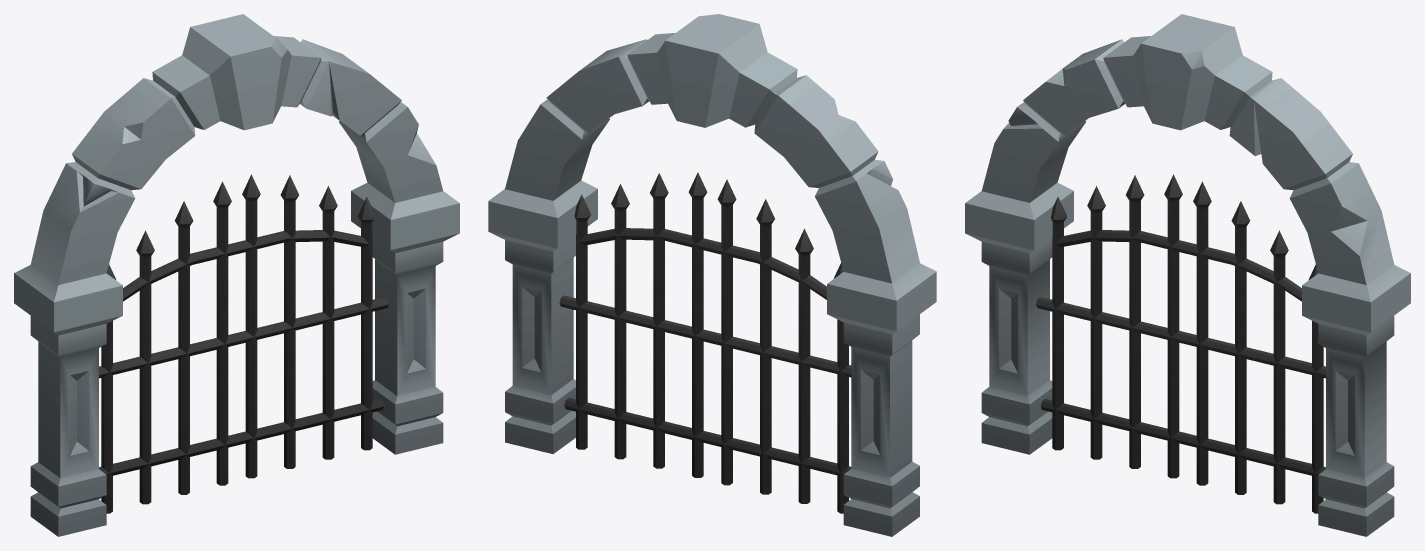
Rendered from hb_arch_gate.glb.
3 views of the same model, side by side, from view 1: azimuth 30°, elevation 25°; view 2: azimuth 150°, elevation 25°; view 3: azimuth 330°, elevation 25° (orthographic).
Visible parts, largest first — view 1: arch_gate, arch_gate_left, arch_gate_right; view 2: arch_gate, arch_gate_left, arch_gate_right; view 3: arch_gate, arch_gate_right, arch_gate_left.
Boxes of the visible parts, x1,y1,x2,y2 form: arch_gate: [14, 14, 459, 536]; arch_gate_left: [236, 174, 388, 478]; arch_gate_right: [99, 181, 239, 513]; arch_gate: [488, 14, 936, 536]; arch_gate_left: [559, 172, 713, 477]; arch_gate_right: [709, 179, 851, 513]; arch_gate: [965, 14, 1410, 536]; arch_gate_right: [1036, 174, 1188, 478]; arch_gate_left: [1185, 181, 1325, 513].
Bounding box in the file's own units: 3.06 × 3.2 × 0.5581.
1 material, 1 textured.
